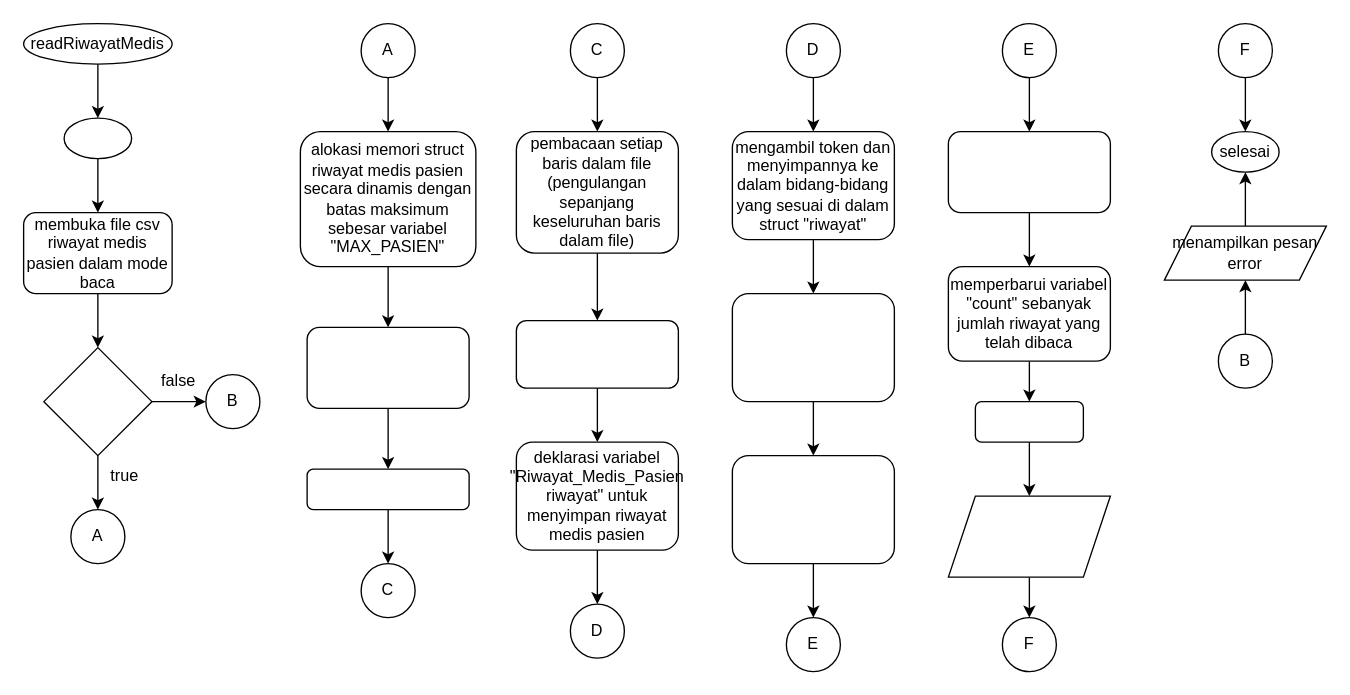
Image size: 1350x695. Some labels were removed from this diagram. The centre of each missing label's shape, as x and y in pixels:
file kosong: pixel 97 401
inisialisasi variabel pointer "count" dengan nilai nol: pixel 387 367
mengembalikan array of structs "riwayatMedis": pixel 1028 536
menggunakan fungsi "atof" untuk mengonversi token menjadi float (biaya): pixel 812 509
menggunakan fungsi "atoi" untuk mengonversi token menjadi integer (nomor): pixel 812 347
menutup file: pixel 1028 421
menyimpan riwayat medis pasien ke dalam array of structs "riwayatMedis": pixel 1028 171
mulai: pixel 97 138
parsing baris menjadi token berdasarkan karakter ';': pixel 596 353
skip header dari file: pixel 387 489
